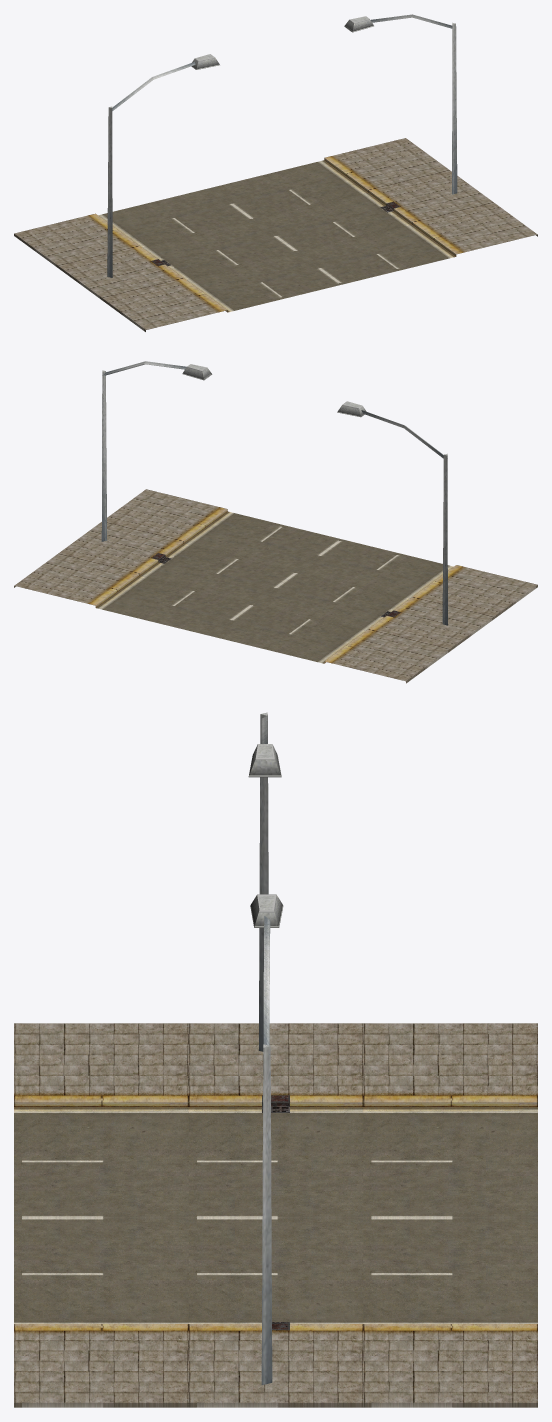
File: Road2_Part_07_D.fbx
3 views of the same model, one above another, from view 1: azimuth 30°, elevation 25°; view 2: azimuth 150°, elevation 25°; view 3: azimuth 270°, elevation 25° (orthographic). The views are drawn at different scales.
Visible parts, largest first — view 1: Model_Road2_Part_07_D, LampPost55, LampPost01; view 2: Model_Road2_Part_07_D, LampPost55, LampPost01; view 3: Model_Road2_Part_07_D, LampPost01, LampPost55.
Part boxes in pixels (x1,y1,x2,y2): Model_Road2_Part_07_D: (14,138,537,331); LampPost55: (107,54,219,277); LampPost01: (344,14,457,194); Model_Road2_Part_07_D: (14,489,537,683); LampPost55: (337,401,447,625); LampPost01: (101,361,212,541); Model_Road2_Part_07_D: (14,1023,537,1407); LampPost01: (250,894,283,1384); LampPost55: (248,712,281,1051).
Bounding box in the file's own units: 945 × 464 × 551.
